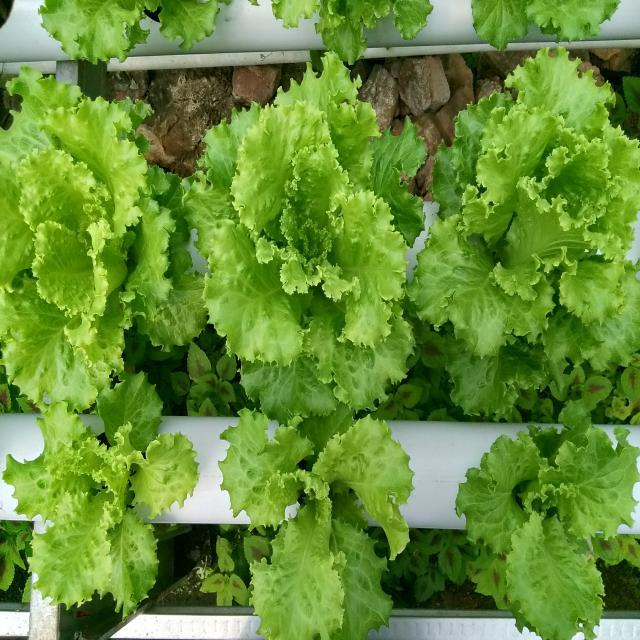Baby: (0, 388, 200, 638), (456, 395, 639, 639), (220, 409, 414, 639)
